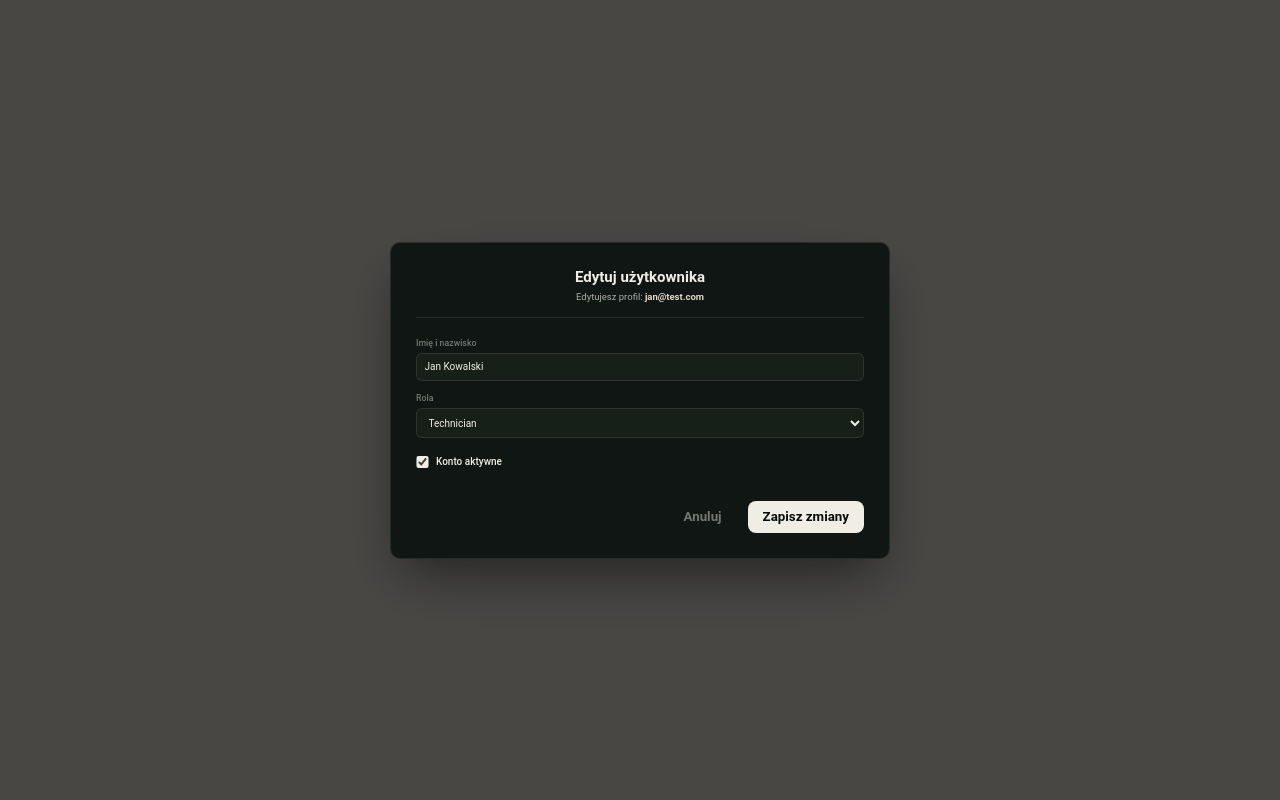
EditUserModal › wyświetla stan ładowania "Zapisywanie..."
This screenshot has width=1280, height=800.
What coordinates should you click on to do the following:
click the button "Zapisz zmiany"
I would click on:
 (806, 516)
Its box is x1=748 y1=500 x2=864 y2=532.
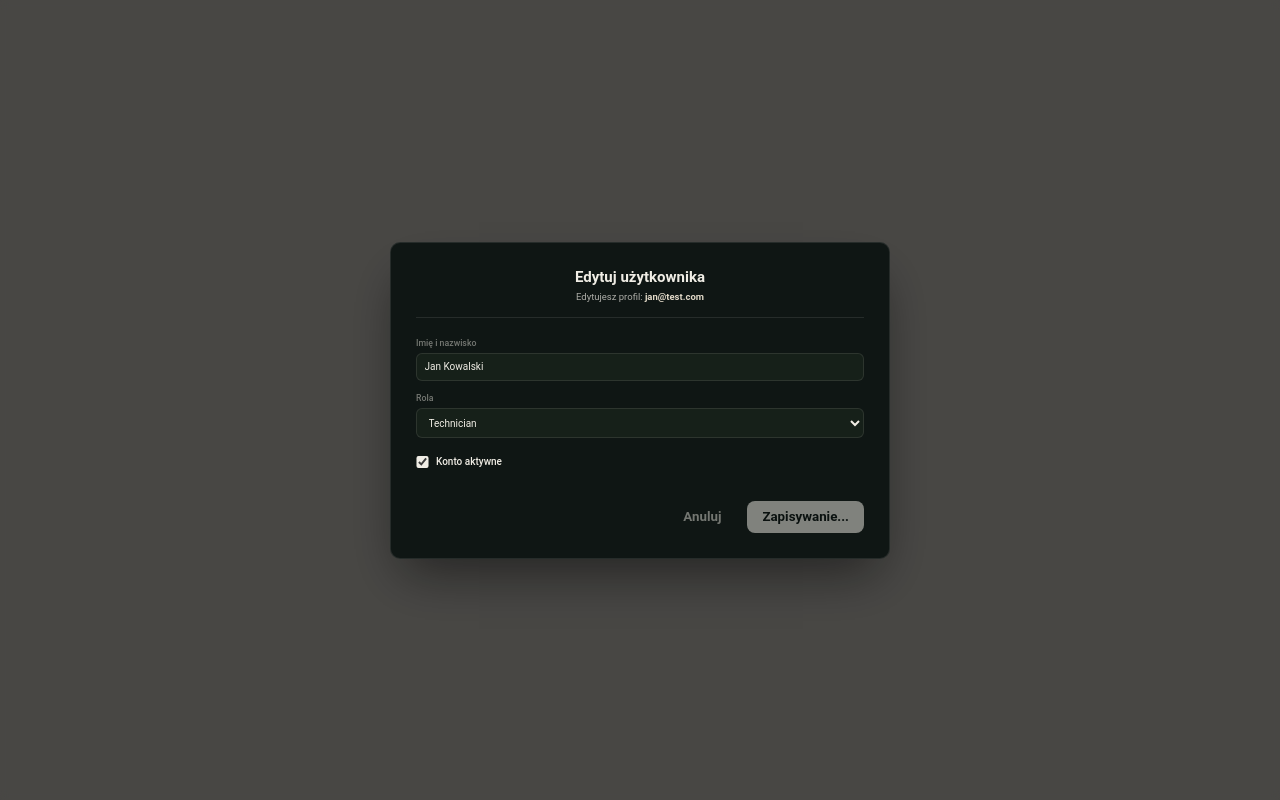
Now the button "Zapisywanie..." is shown, box x1=747 y1=500 x2=864 y2=532
